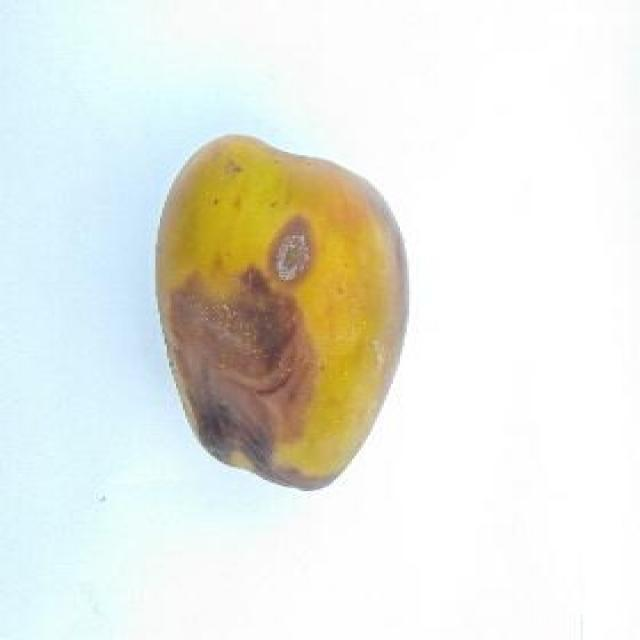Apple: (152, 145, 415, 507)
